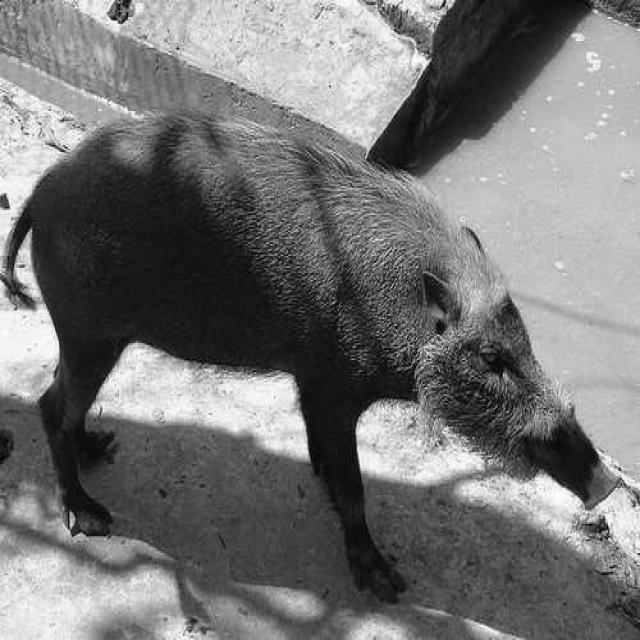boar: (0, 116, 620, 602)
